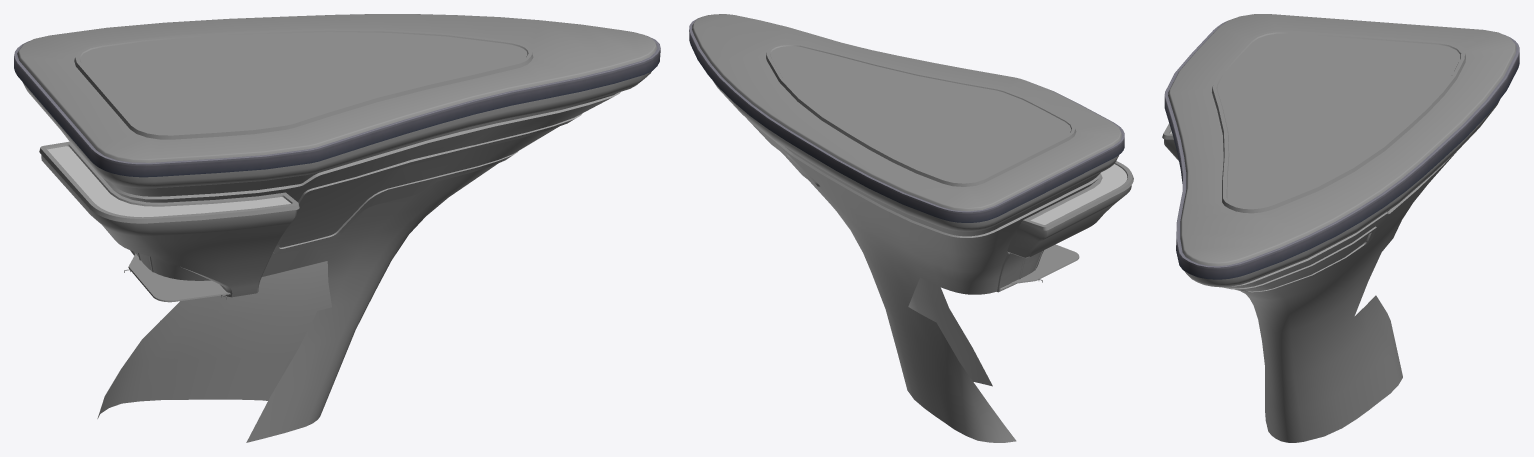
The model's file is mesh_1002_yjy_sd_1.FBX.
3 renders of one model, left to right at view 1: azimuth 30°, elevation 25°; view 2: azimuth 150°, elevation 25°; view 3: azimuth 270°, elevation 25°, orthographic. The views are drawn at different scales.
Visible parts, largest first — view 1: mesh_1002_yjy_sd_1a, mesh_1002_yjy_sd_1d, mesh_1002_yjy_sd_1b, mesh_1002_yjy_sd_1e, mesh_1002_yjy_sd_1c, mesh_1002_yjy_sd_1f; view 2: mesh_1002_yjy_sd_1a, mesh_1002_yjy_sd_1d, mesh_1002_yjy_sd_1b, mesh_1002_yjy_sd_1e, mesh_1002_yjy_sd_1c, mesh_1002_yjy_sd_1f; view 3: mesh_1002_yjy_sd_1d, mesh_1002_yjy_sd_1b, mesh_1002_yjy_sd_1a, mesh_1002_yjy_sd_1c, mesh_1002_yjy_sd_1e.
Boxes of the visible parts, x1,y1,x2,y2 form: mesh_1002_yjy_sd_1a: [23, 71, 651, 442]; mesh_1002_yjy_sd_1d: [80, 32, 527, 133]; mesh_1002_yjy_sd_1b: [17, 14, 657, 162]; mesh_1002_yjy_sd_1e: [39, 29, 617, 302]; mesh_1002_yjy_sd_1c: [14, 35, 660, 177]; mesh_1002_yjy_sd_1f: [47, 146, 290, 217]; mesh_1002_yjy_sd_1a: [713, 81, 1131, 442]; mesh_1002_yjy_sd_1d: [770, 46, 1071, 182]; mesh_1002_yjy_sd_1b: [692, 14, 1122, 211]; mesh_1002_yjy_sd_1e: [766, 43, 1133, 288]; mesh_1002_yjy_sd_1c: [689, 17, 1124, 222]; mesh_1002_yjy_sd_1f: [1030, 164, 1127, 224]; mesh_1002_yjy_sd_1d: [1217, 33, 1460, 207]; mesh_1002_yjy_sd_1b: [1168, 14, 1516, 266]; mesh_1002_yjy_sd_1a: [1164, 100, 1499, 442]; mesh_1002_yjy_sd_1c: [1164, 21, 1519, 279]; mesh_1002_yjy_sd_1e: [1162, 30, 1465, 291].
Bounding box in the file's own units: 4769 × 2804 × 2812.
